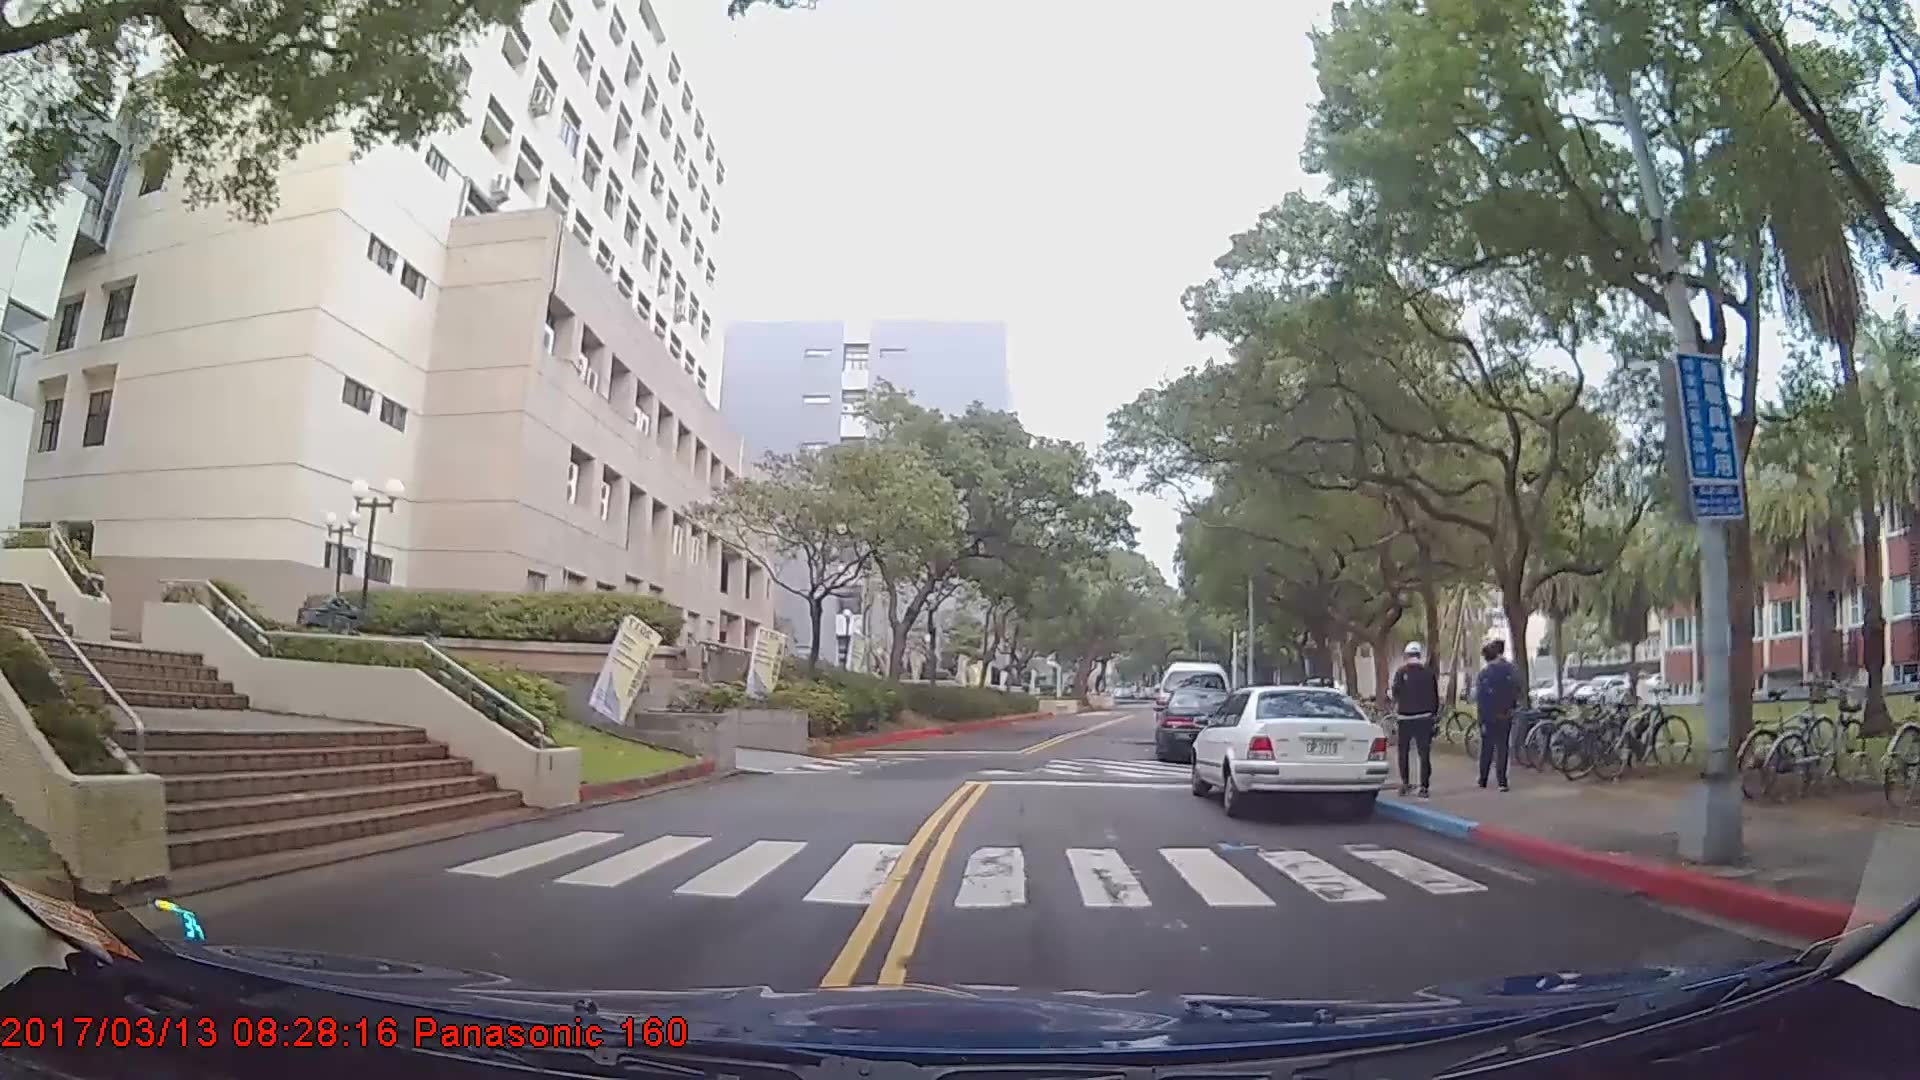pedestrian: (1471, 640, 1525, 796), (1392, 643, 1444, 799)
vehicle: (1191, 683, 1390, 816), (1155, 685, 1248, 761)
